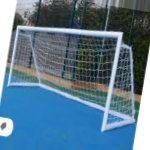goals: (7, 23, 136, 133)
